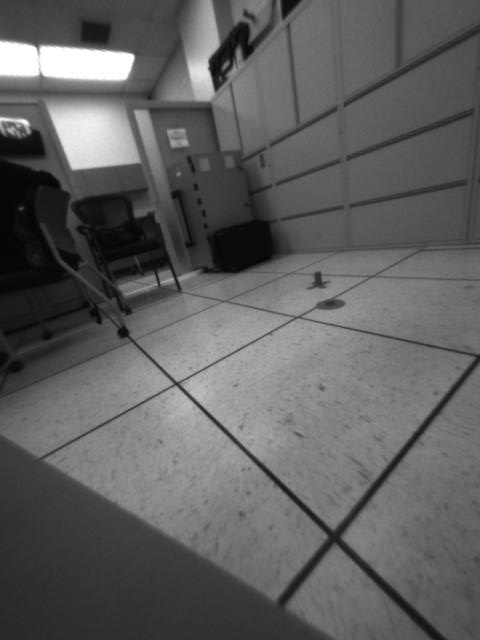X: (305, 270, 330, 291)
